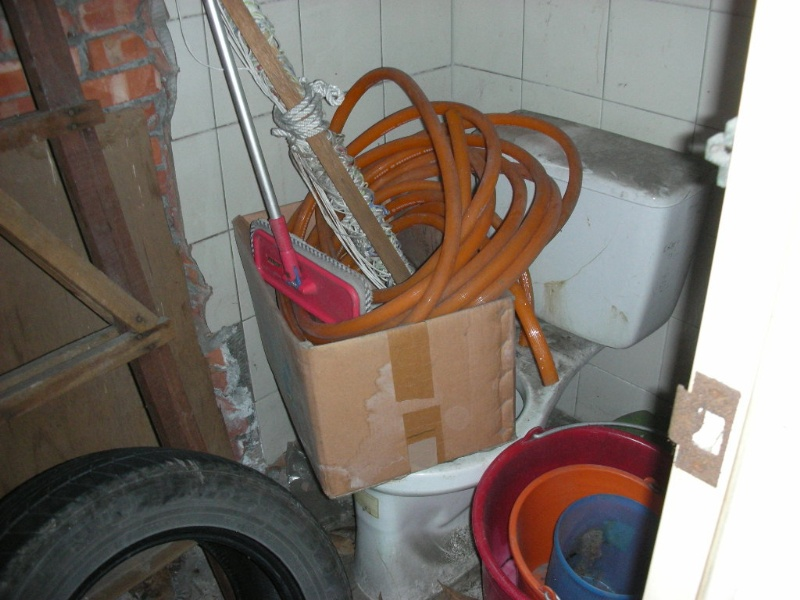box: (229, 195, 522, 502)
bucket: (467, 421, 673, 600), (506, 462, 661, 600), (544, 491, 662, 600)
tire: (1, 444, 354, 600)
toilet: (351, 109, 719, 600)
